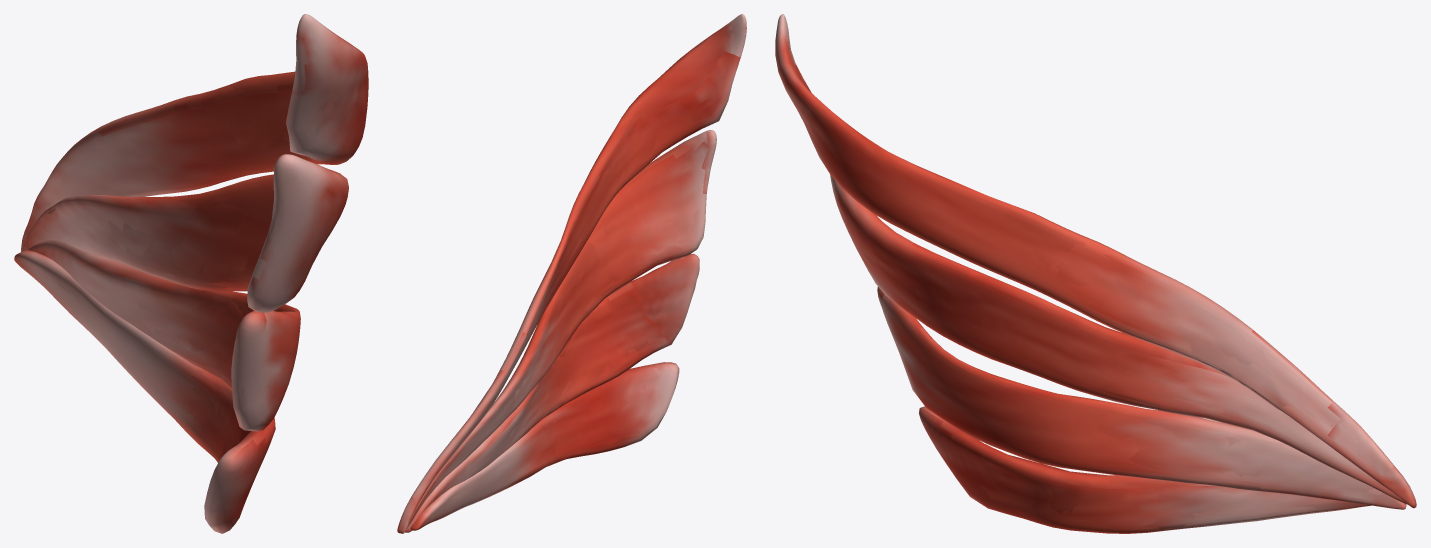
File: L Serratus Ventralis cervicis.fbx
The picture shows the model from 3 angles, left to right: view 1: azimuth 30°, elevation 25°; view 2: azimuth 150°, elevation 25°; view 3: azimuth 270°, elevation 25°; orthographic projection. The views are drawn at different scales.
Parts seen in each view (by area): view 1: L Serratus Ventralis cervicis, L Serratus Ventralis cervicis low; view 2: L Serratus Ventralis cervicis, L Serratus Ventralis cervicis low; view 3: L Serratus Ventralis cervicis, L Serratus Ventralis cervicis low.
Boxes of the visible parts, left/top/right/bottom form: L Serratus Ventralis cervicis: left=14, top=14, right=368, bottom=533; L Serratus Ventralis cervicis low: left=28, top=77, right=358, bottom=505; L Serratus Ventralis cervicis: left=397, top=14, right=746, bottom=533; L Serratus Ventralis cervicis low: left=413, top=20, right=742, bottom=524; L Serratus Ventralis cervicis: left=775, top=14, right=1416, bottom=533; L Serratus Ventralis cervicis low: left=783, top=28, right=1383, bottom=529.
Bounding box in the file's own units: 9.48 × 36.09 × 44.36.
